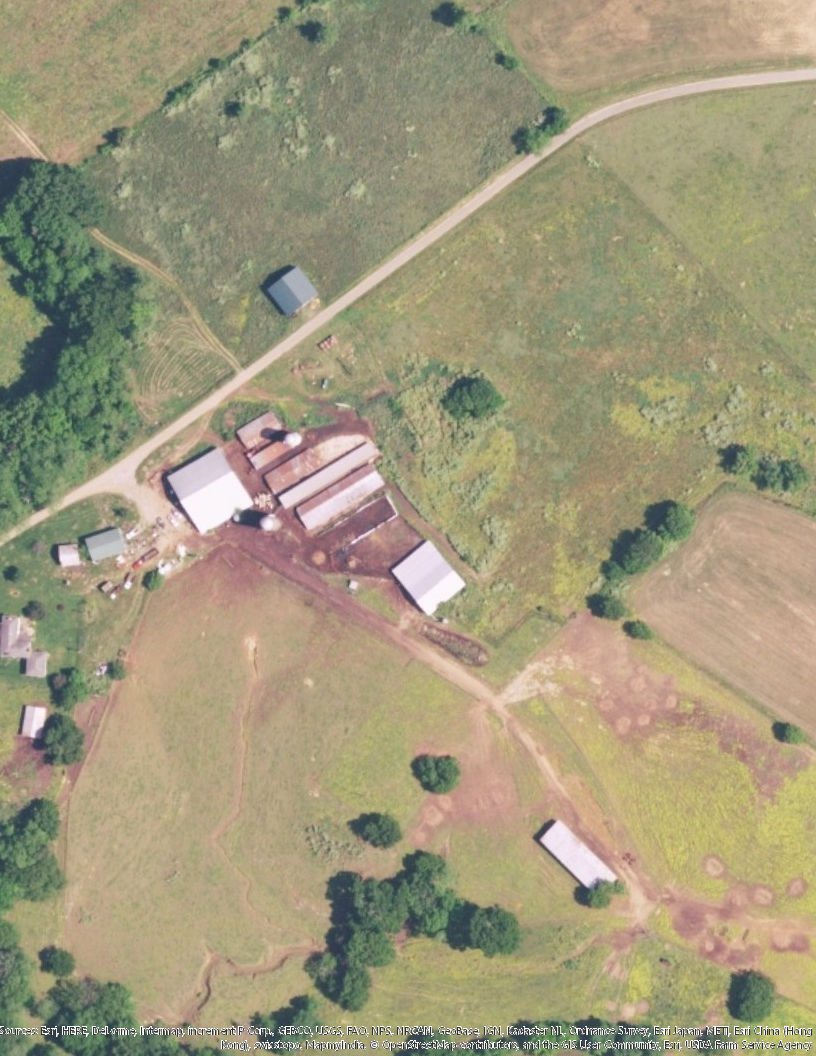cafo: (242, 411, 399, 537), (161, 443, 250, 536), (537, 816, 626, 906), (389, 533, 474, 623)
